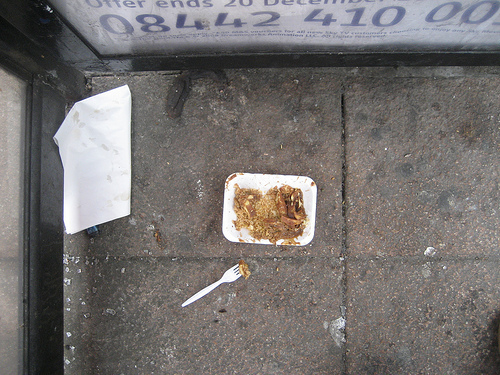litter: (50, 83, 133, 234), (220, 172, 318, 246), (180, 262, 244, 306)
